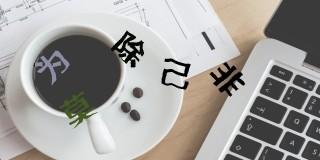为: (33, 50, 70, 86)
己: (160, 57, 191, 91)
莫: (58, 90, 97, 128)
除: (111, 29, 145, 68)
非: (209, 59, 246, 97)
